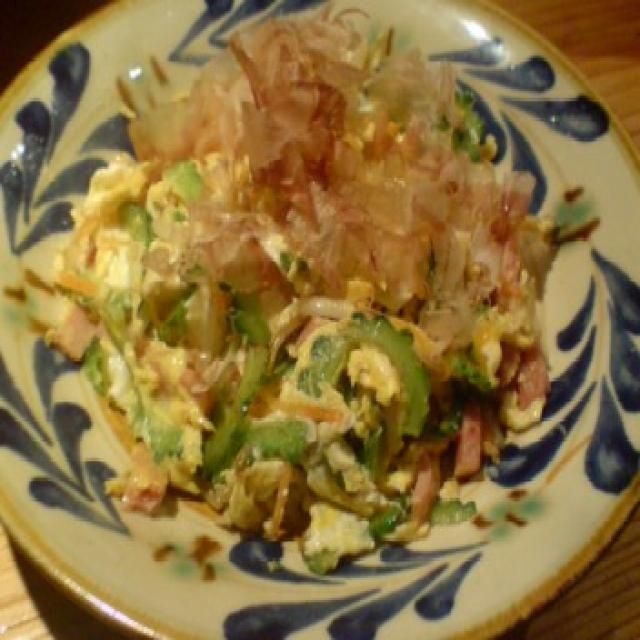熟制海鲜: (0, 11, 631, 629)
